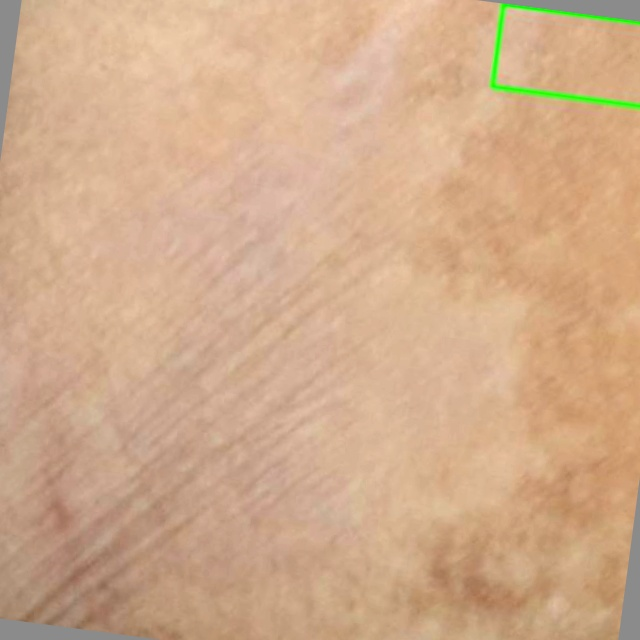Contact Dermatitis: (492, 4, 639, 106)
